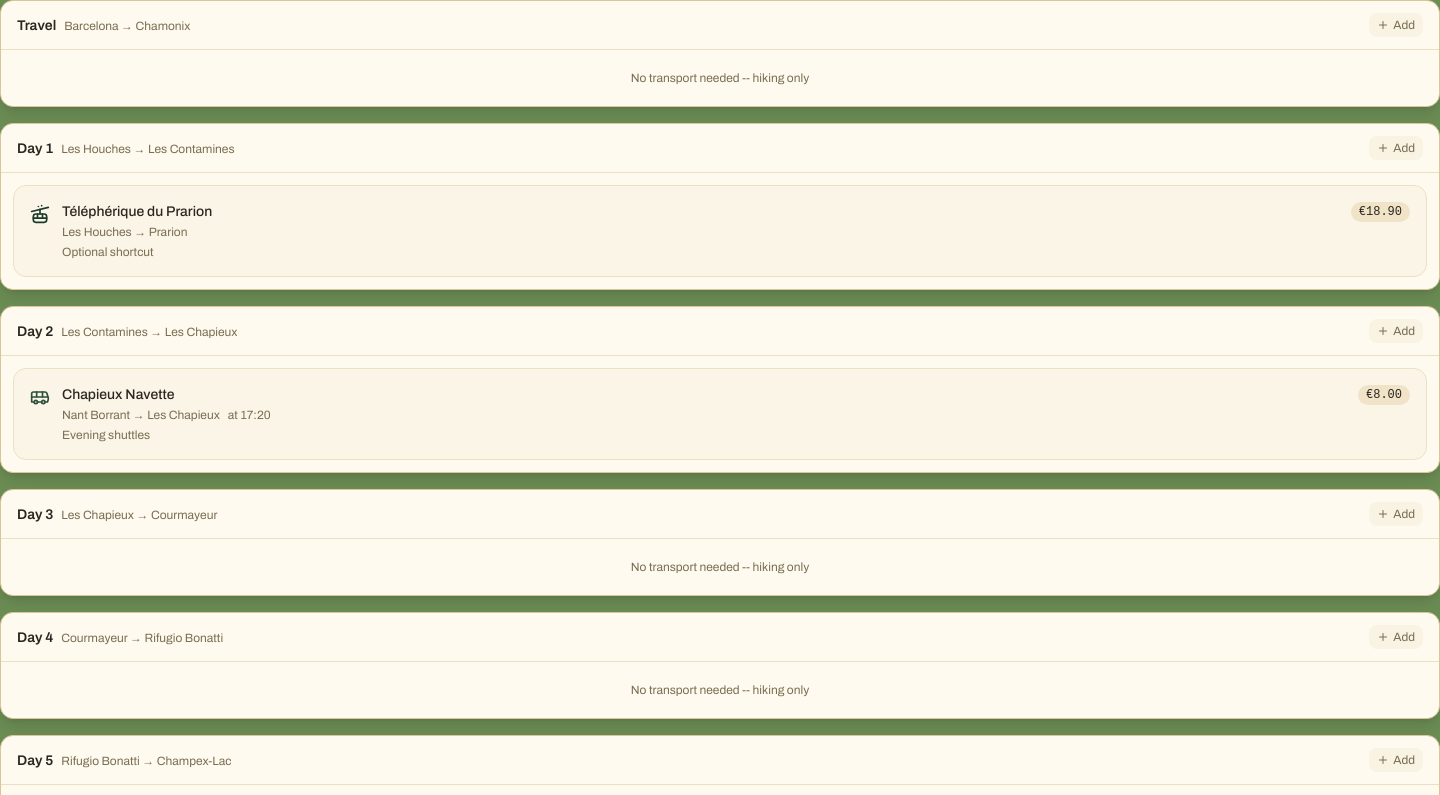
TransportTab › enters edit mode on leg card click
The width and height of the screenshot is (1440, 795).
Click the text "Téléphérique du Prarion" at (137, 212), box x1=62 y1=202 x2=212 y2=222
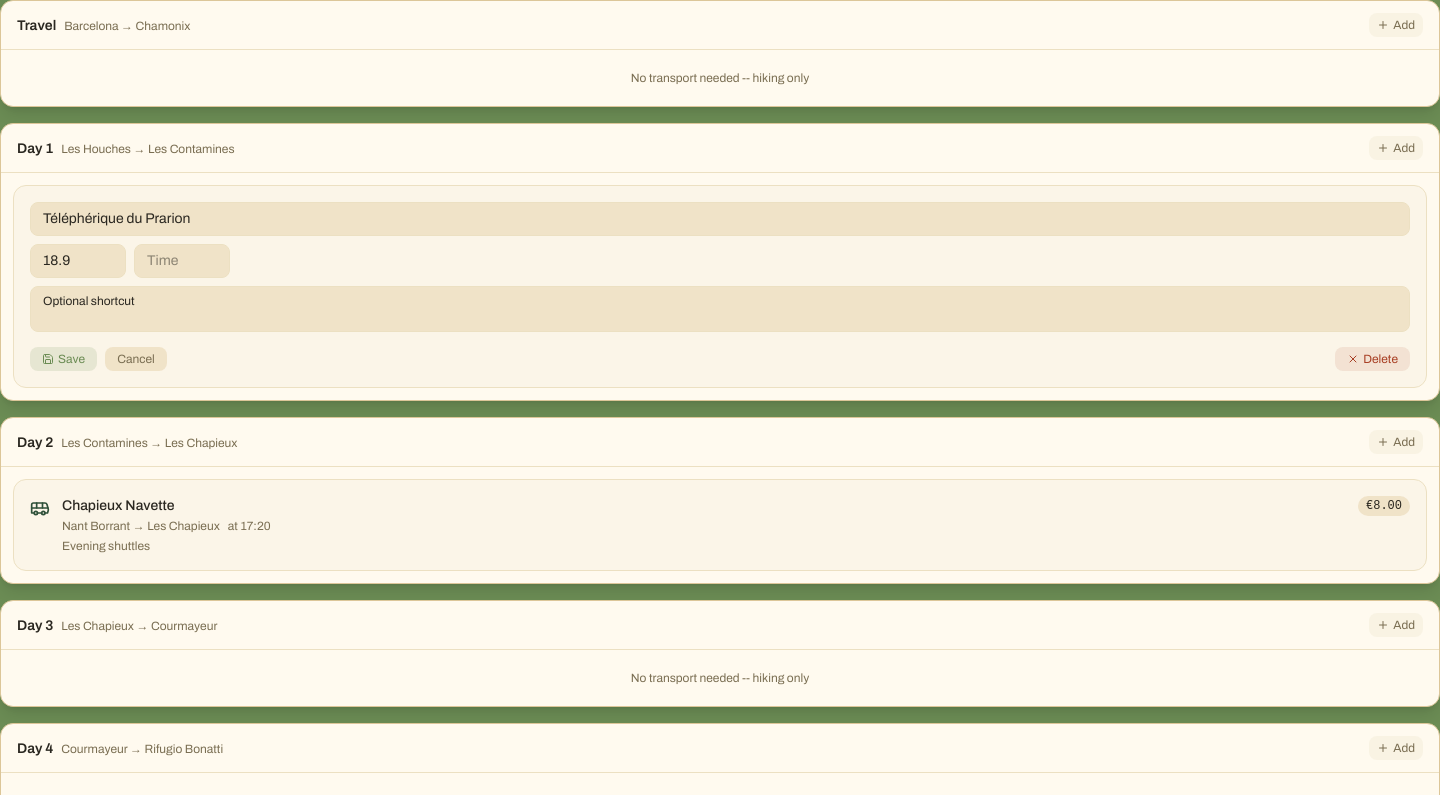
Result: the field showing "Téléphérique du Prarion" is shown at x1=30 y1=202 x2=1410 y2=236
Result: the number field showing "18.9" is shown at x1=30 y1=244 x2=126 y2=278
Result: the button "Save" is shown at x1=30 y1=347 x2=97 y2=371
